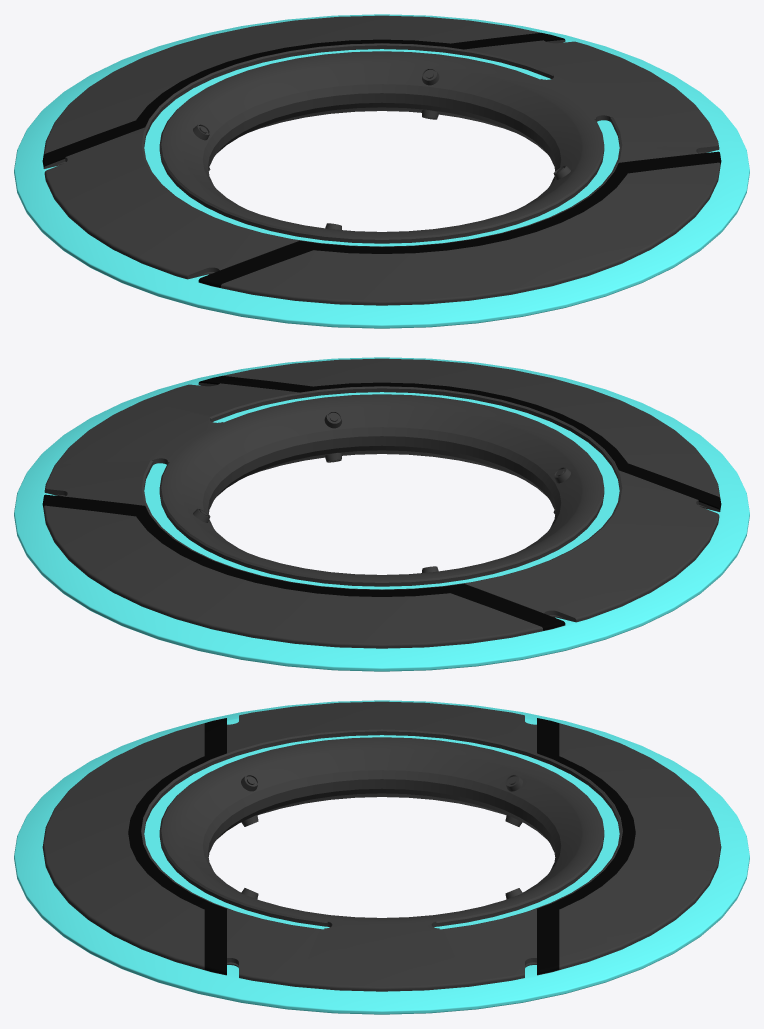
File: torn legacy disk v2-0.obj
3 views of the same model, one above another, from view 1: azimuth 30°, elevation 25°; view 2: azimuth 150°, elevation 25°; view 3: azimuth 270°, elevation 25° (orthographic).
Visible parts, largest first — view 1: Mesh5 Difference1 Model, Mesh1 OuterShell Model, Mesh3 Difference Model, Mesh6 Difference2 Model, Mesh4 Difference Model; view 2: Mesh5 Difference1 Model, Mesh1 OuterShell Model, Mesh4 Difference Model, Mesh6 Difference2 Model, Mesh3 Difference Model; view 3: Mesh5 Difference1 Model, Mesh1 OuterShell Model, Mesh3 Difference Model, Mesh4 Difference Model, Mesh6 Difference2 Model.
Part boxes in pixels (x1=…): Mesh5 Difference1 Model: x1=42, y1=15, x2=721, y2=305; Mesh1 OuterShell Model: x1=14, y1=14, x2=749, y2=328; Mesh3 Difference Model: x1=198, y1=151, x2=721, y2=287; Mesh6 Difference2 Model: x1=208, y1=98, x2=555, y2=171; Mesh4 Difference Model: x1=42, y1=32, x2=565, y2=168; Mesh5 Difference1 Model: x1=42, y1=358, x2=721, y2=648; Mesh1 OuterShell Model: x1=14, y1=357, x2=749, y2=671; Mesh4 Difference Model: x1=42, y1=494, x2=565, y2=630; Mesh6 Difference2 Model: x1=208, y1=441, x2=555, y2=514; Mesh3 Difference Model: x1=198, y1=375, x2=721, y2=511; Mesh5 Difference1 Model: x1=42, y1=701, x2=721, y2=991; Mesh1 OuterShell Model: x1=14, y1=700, x2=749, y2=1014; Mesh3 Difference Model: x1=128, y1=718, x2=226, y2=974; Mesh4 Difference Model: x1=537, y1=718, x2=635, y2=974; Mesh6 Difference2 Model: x1=208, y1=784, x2=555, y2=856.
Bounding box in the file's own units: 228 × 18.56 × 228.
